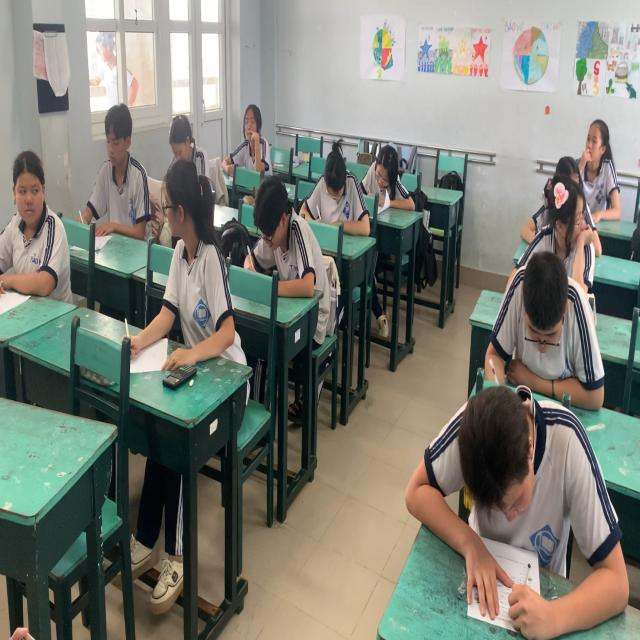cheating: (157, 171, 228, 353), (1, 132, 69, 306), (528, 167, 598, 250)
not_cheating: (420, 391, 602, 616), (496, 254, 596, 384), (244, 170, 328, 302), (308, 132, 363, 229), (99, 109, 144, 225), (370, 140, 413, 216), (162, 115, 207, 167), (238, 87, 267, 163)
